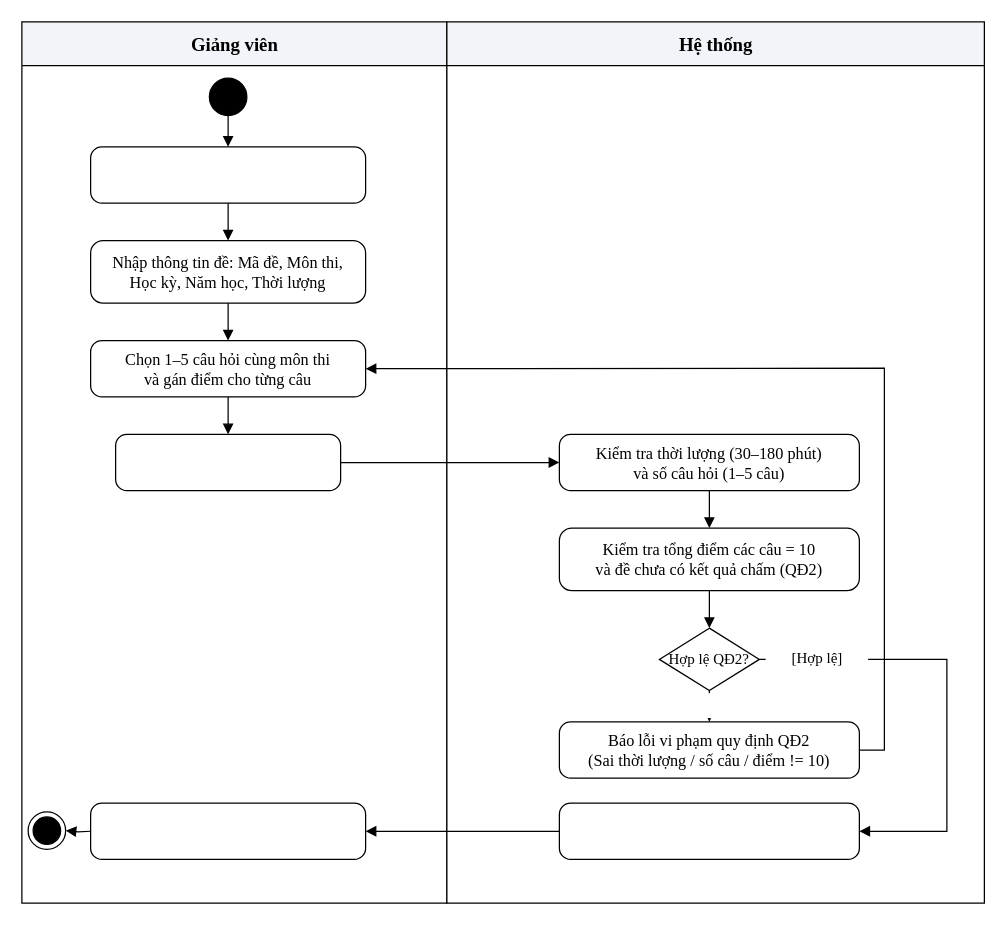
This 1006x925 diagram has some shape labels left out. Each missing label, with the centre of its shape:
"[Không]" belongs at (x=709, y=705).
"Chọn chức năng SOẠN ĐỀ THI" belongs at (x=227, y=174).
"Lưu đề thi và chi tiết phân bổ điểm vào cơ sở dữ liệu" belongs at (x=708, y=830).
"Nhấn nút 'Lưu đề thi'" belongs at (x=227, y=462).
"Nhận thông báo lưu đề thành công" belongs at (x=227, y=830).
